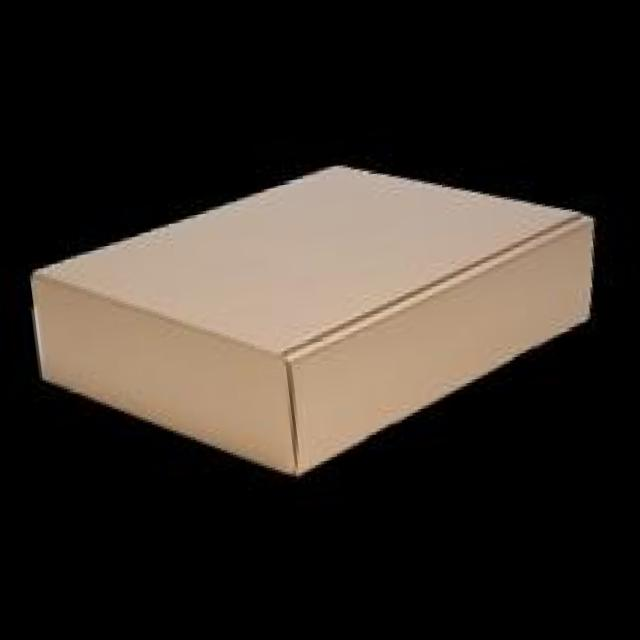box: (32, 166, 594, 476)
